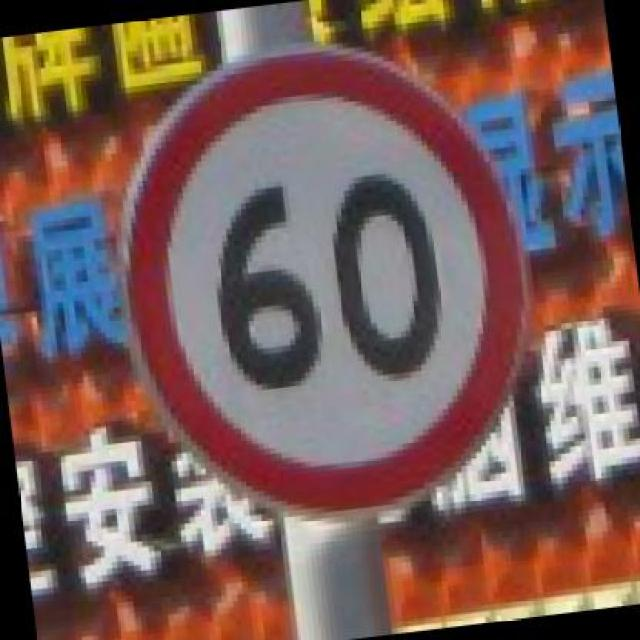Limite-60: (116, 42, 526, 515)
